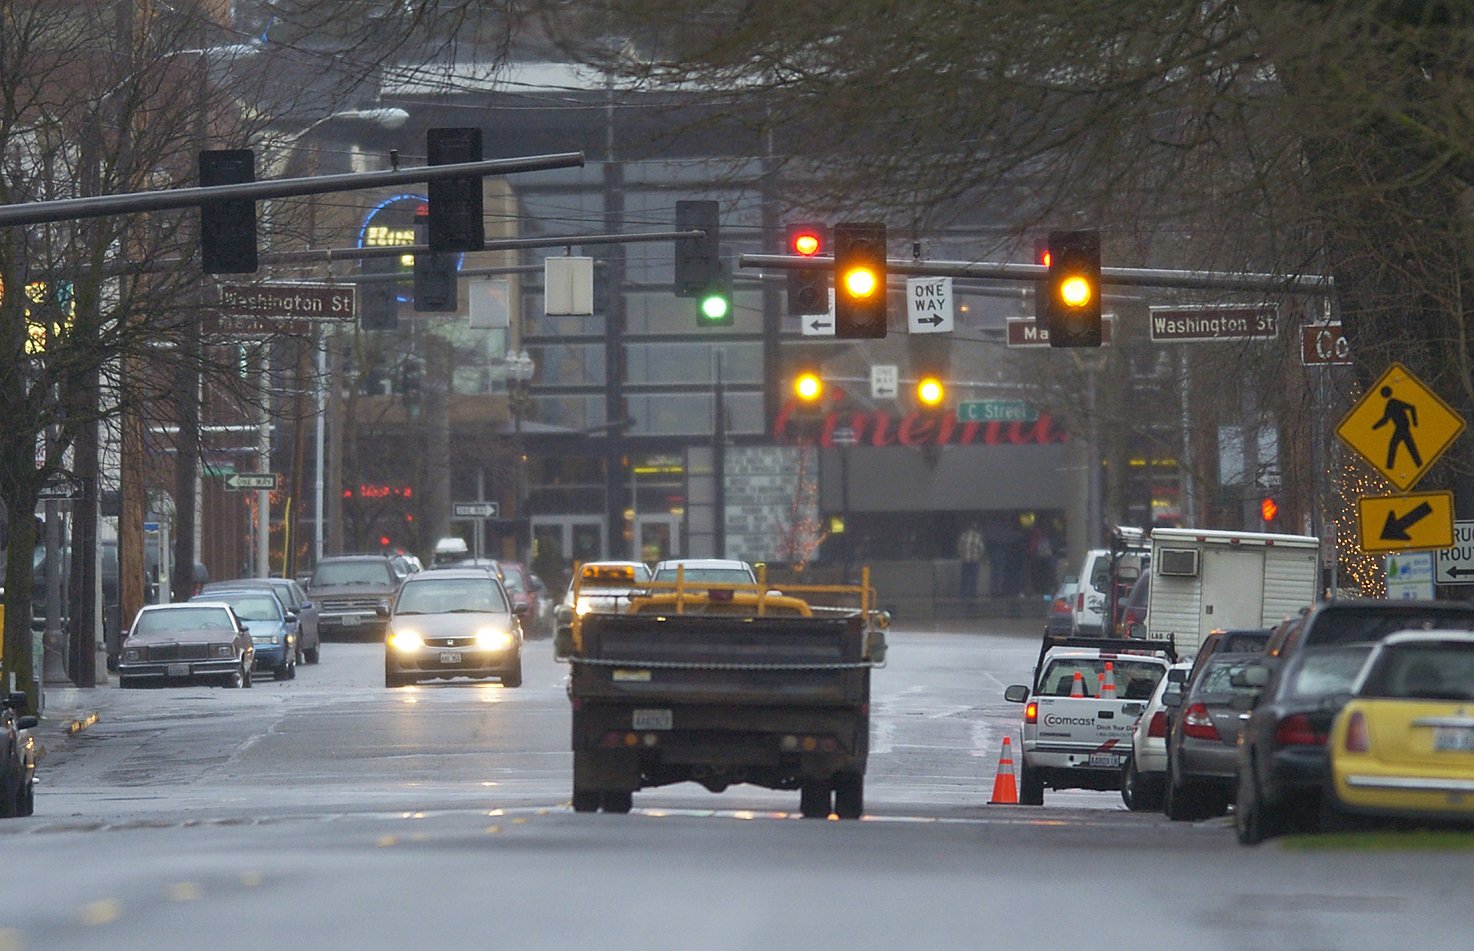traffic_light: (1046, 229, 1104, 349), (832, 221, 888, 341)
